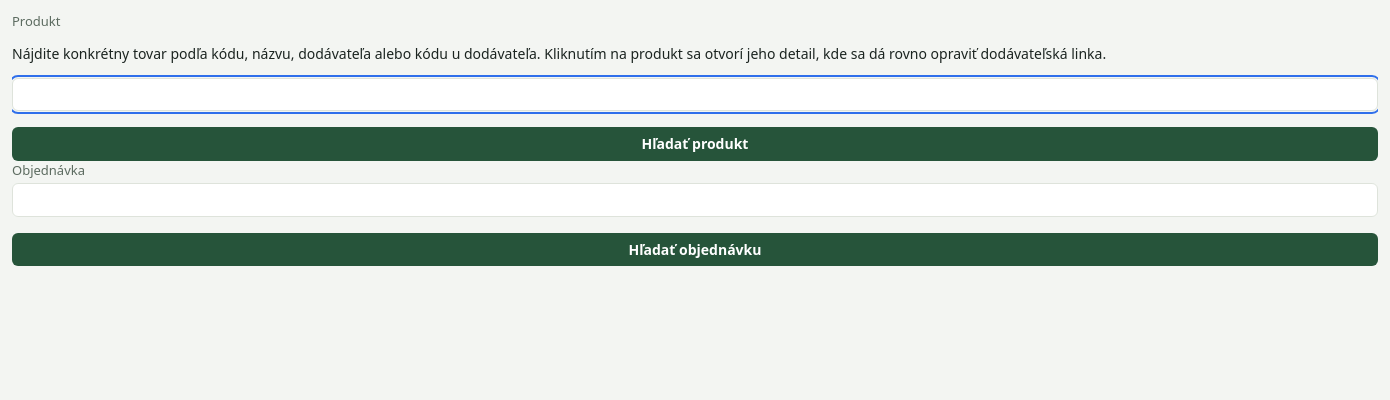
Scenario: klik na 'Otvoriť' pri produkte otvorí detail so všetkými variantmi
The width and height of the screenshot is (1390, 400).
Type "PD-1" into the search field labelled "Produkt".
click(695, 95); type("PD-1")  # box [12, 78, 1378, 111]
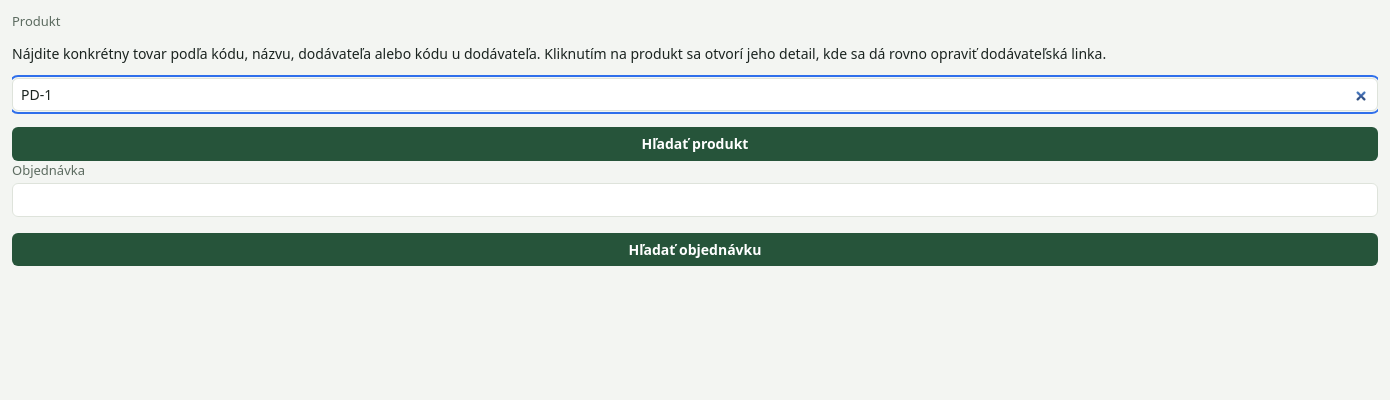
Click the button "Hľadať produkt".
click(695, 144)  # box [12, 127, 1378, 161]
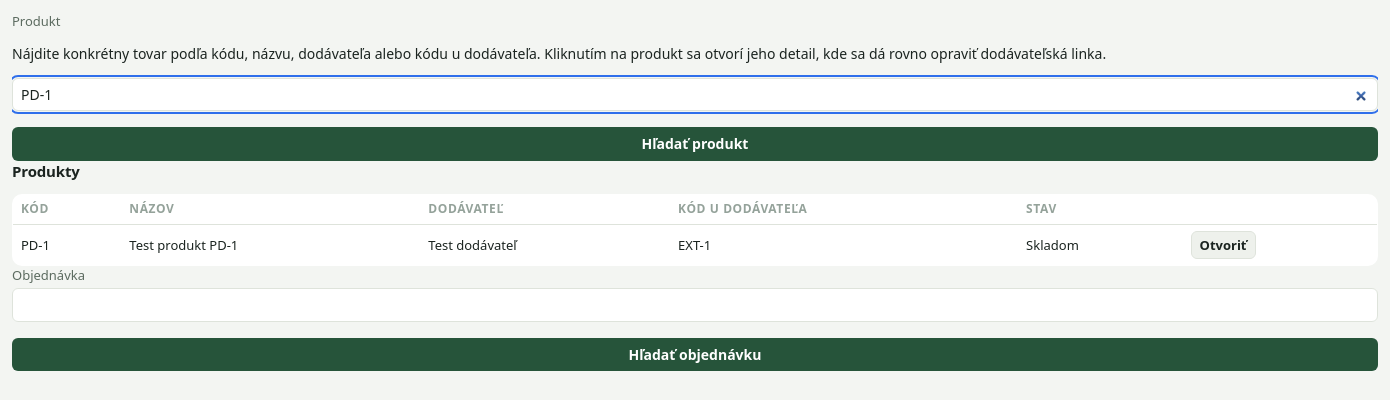
Click the button with test id "search-product-open-PD-1".
click(1223, 245)  # box [1191, 231, 1256, 259]
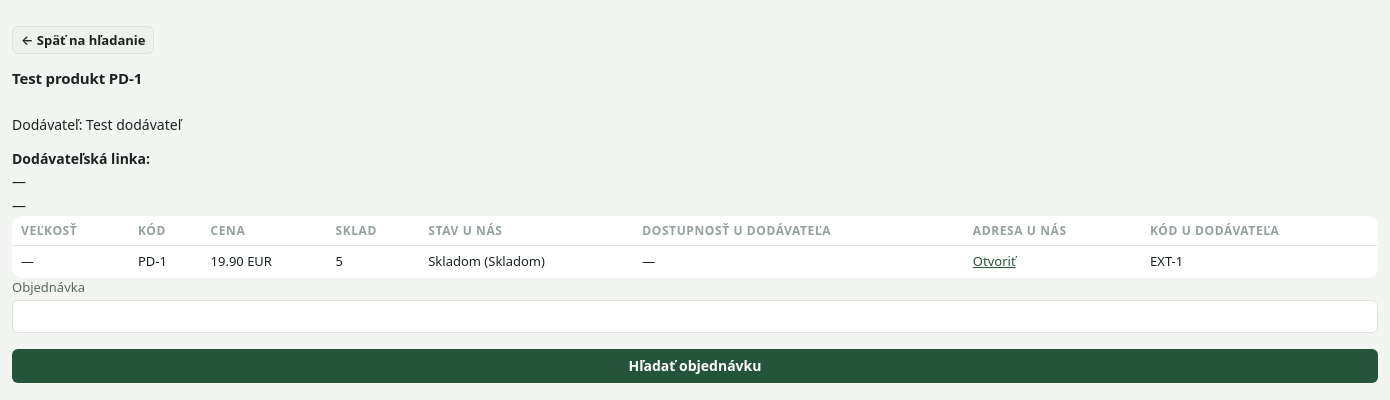
Expected: the heading with test id "search-detail-name" reads "Test produkt PD-1", [12, 68, 142, 88]
Expected: the element with test id "search-detail-section" is shown
Expected: the row with test id "search-detail-variant-PD-1" shows "19.90", [210, 252, 272, 270]
